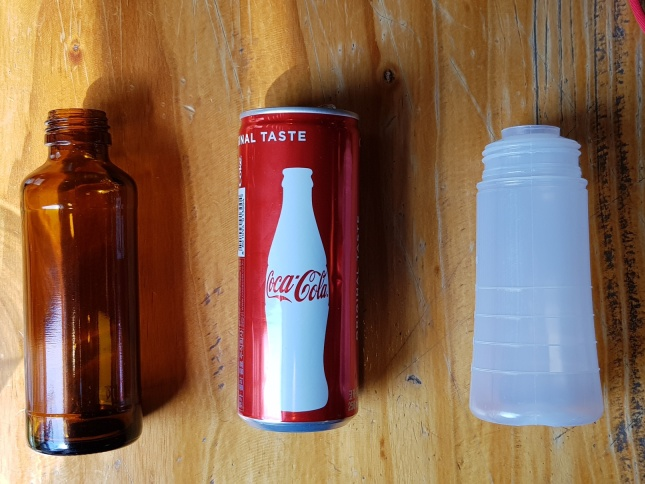Can: (233, 103, 363, 435)
Glass: (15, 104, 147, 459)
Plastic: (459, 115, 609, 431)
